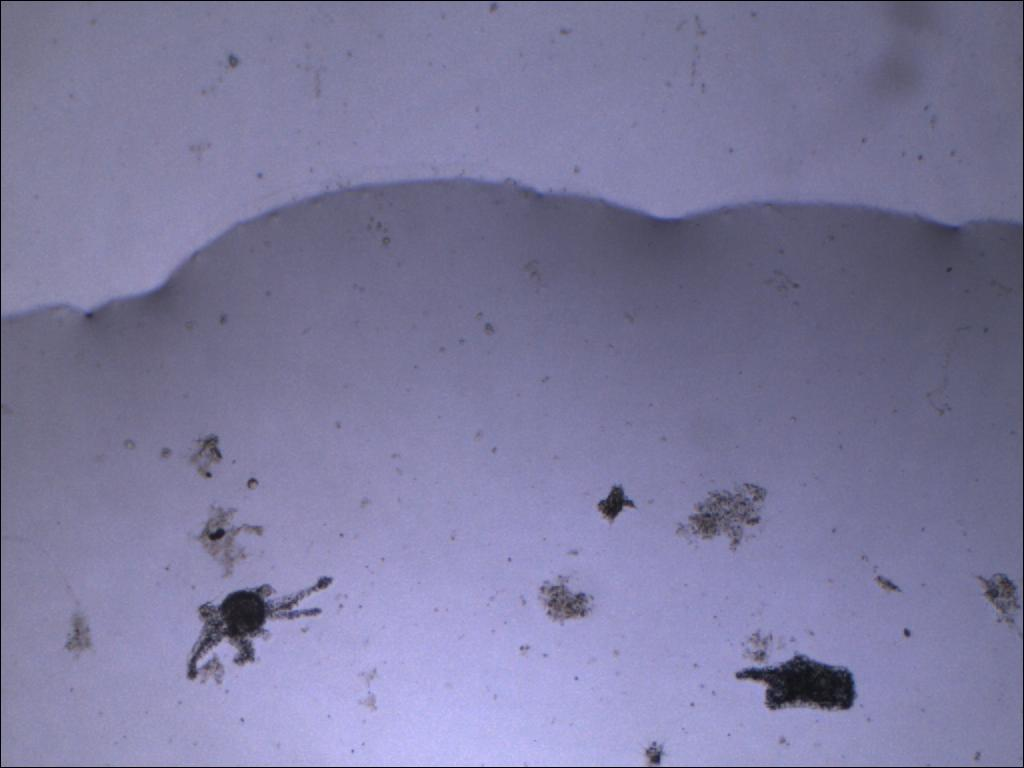amoeba: (180, 571, 340, 686), (726, 647, 864, 721)
